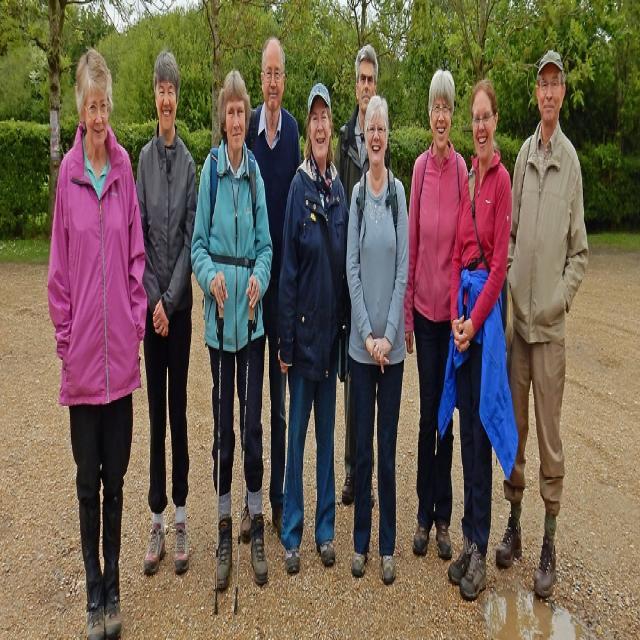body: (46, 43, 149, 638), (492, 46, 589, 601), (434, 73, 522, 606), (190, 67, 275, 594), (274, 74, 352, 579), (131, 43, 200, 581), (401, 64, 474, 564), (237, 30, 304, 552), (344, 90, 411, 591), (332, 37, 389, 511)
